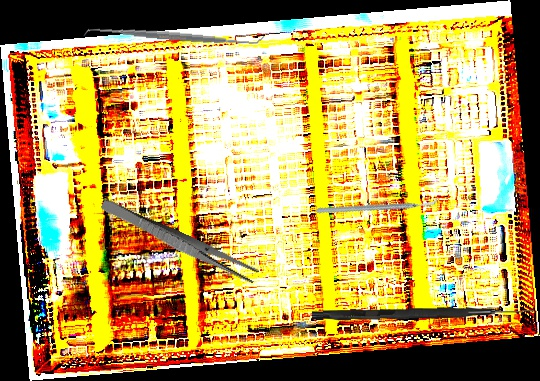Chopper: (315, 159, 441, 251)
Dressing Forceps: (98, 196, 260, 286)
Hook Surgical: (311, 303, 535, 323)
Spatula Surgical: (82, 18, 267, 54)
